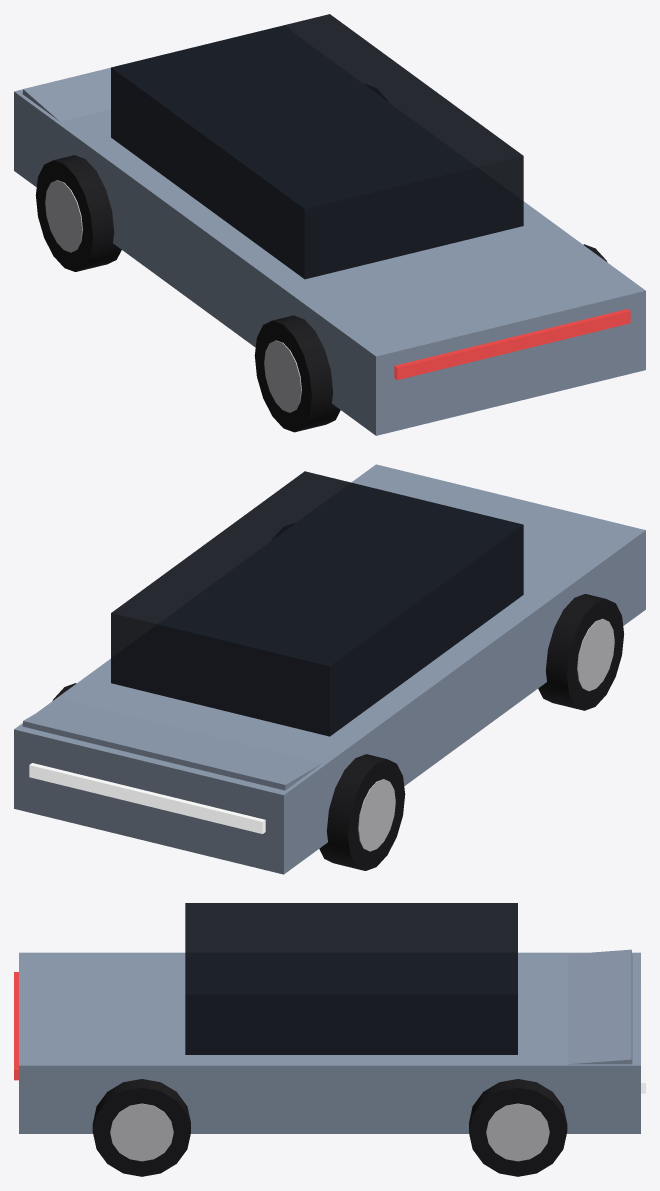
The model's file is car.glb.
The picture shows the model from 3 angles, top to bottom: view 1: azimuth 30°, elevation 25°; view 2: azimuth 150°, elevation 25°; view 3: azimuth 270°, elevation 25°; orthographic projection. The views are drawn at different scales.
Parts seen in each view (by area): view 1: Body_Lower, Body_Cabin, Wheel_Front_L, Wheel_Rear_L, Taillight_Bar, Body_Hood; view 2: Body_Cabin, Body_Lower, Body_Hood, Wheel_Front_L, Wheel_Rear_L, Headlight_Bar; view 3: Body_Lower, Body_Cabin, Wheel_Front_R, Wheel_Rear_R, Body_Hood, Headlight_Bar, Taillight_Bar.
Part boxes in pixels (x1,y1,x2,y2): Body_Lower: (14,89,645,435); Body_Cabin: (111,14,523,279); Wheel_Front_L: (35,155,121,271); Wheel_Rear_L: (254,315,340,432); Taillight_Bar: (394,309,630,379); Body_Hood: (22,67,110,121); Body_Cabin: (111,471,523,736); Body_Lower: (14,464,645,874); Body_Hood: (22,699,322,790); Wheel_Front_L: (319,754,405,870); Wheel_Rear_L: (538,594,623,710); Headlight_Bar: (29,763,265,833); Body_Lower: (19,952,640,1133); Body_Cabin: (185,903,517,1054); Wheel_Front_R: (469,1079,567,1176); Wheel_Rear_R: (92,1079,190,1176); Body_Hood: (567,949,632,1064); Headlight_Bar: (641,985,645,1093); Taillight_Bar: (14,972,18,1080).
Size of the model in its own units: 2.15 by 1.24 by 4.37.
